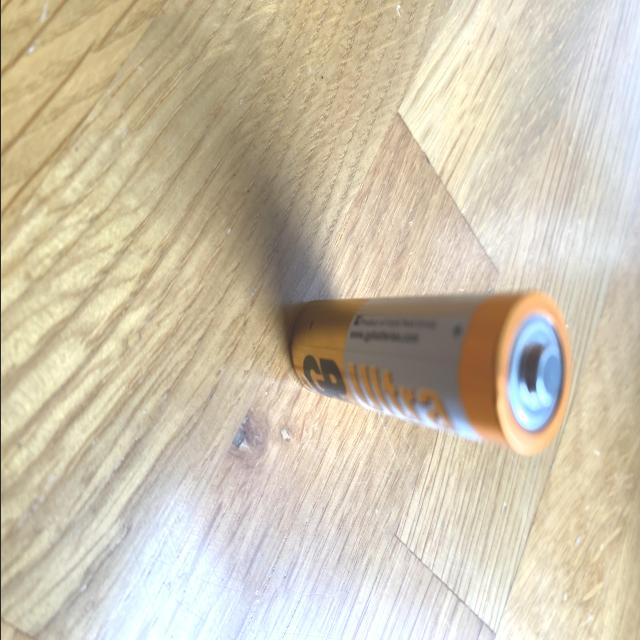AA: (285, 289, 575, 462)
